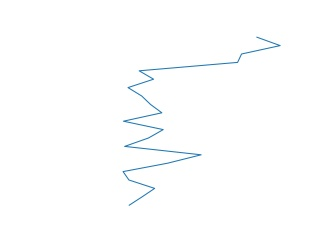crevasseRiverChannelBar: (120, 34, 282, 209)
